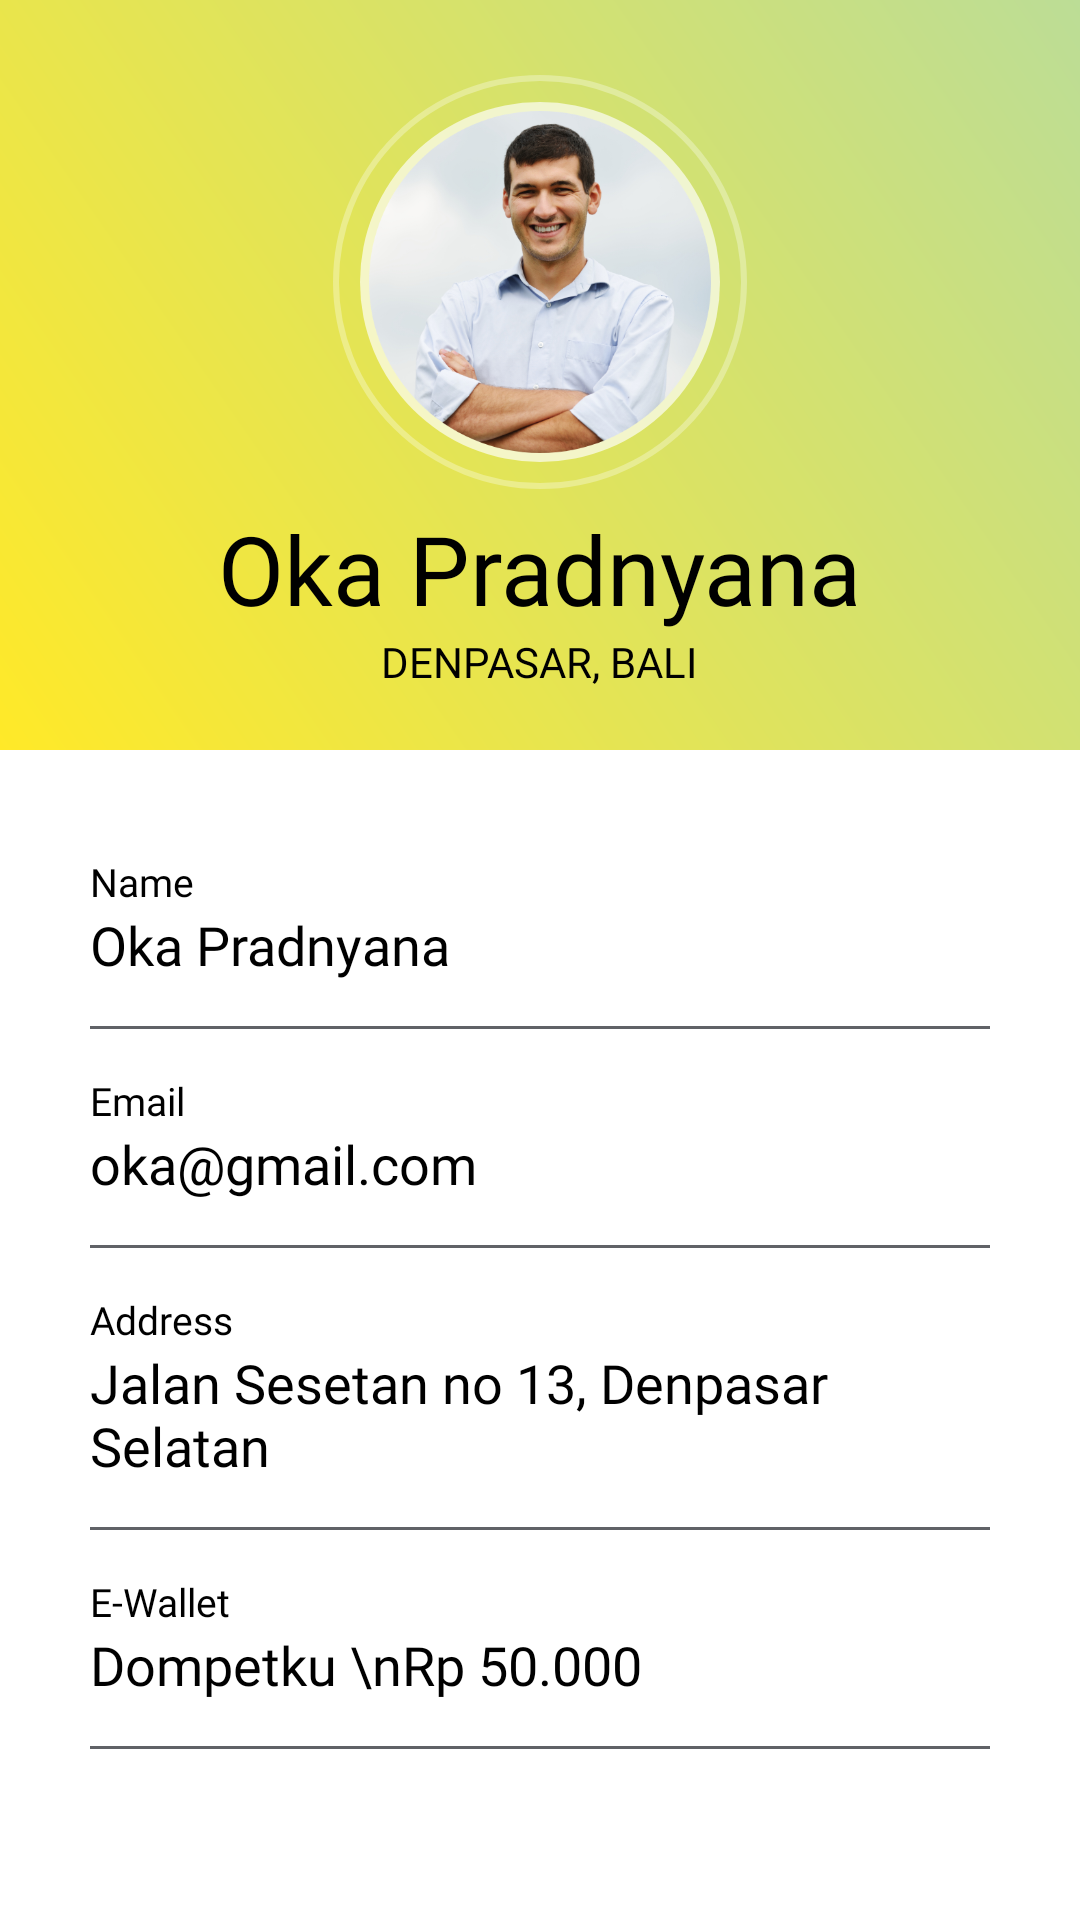

Icon click points for this 1080*1920 phone screenshot, format (x,y):
user: (540,282)
